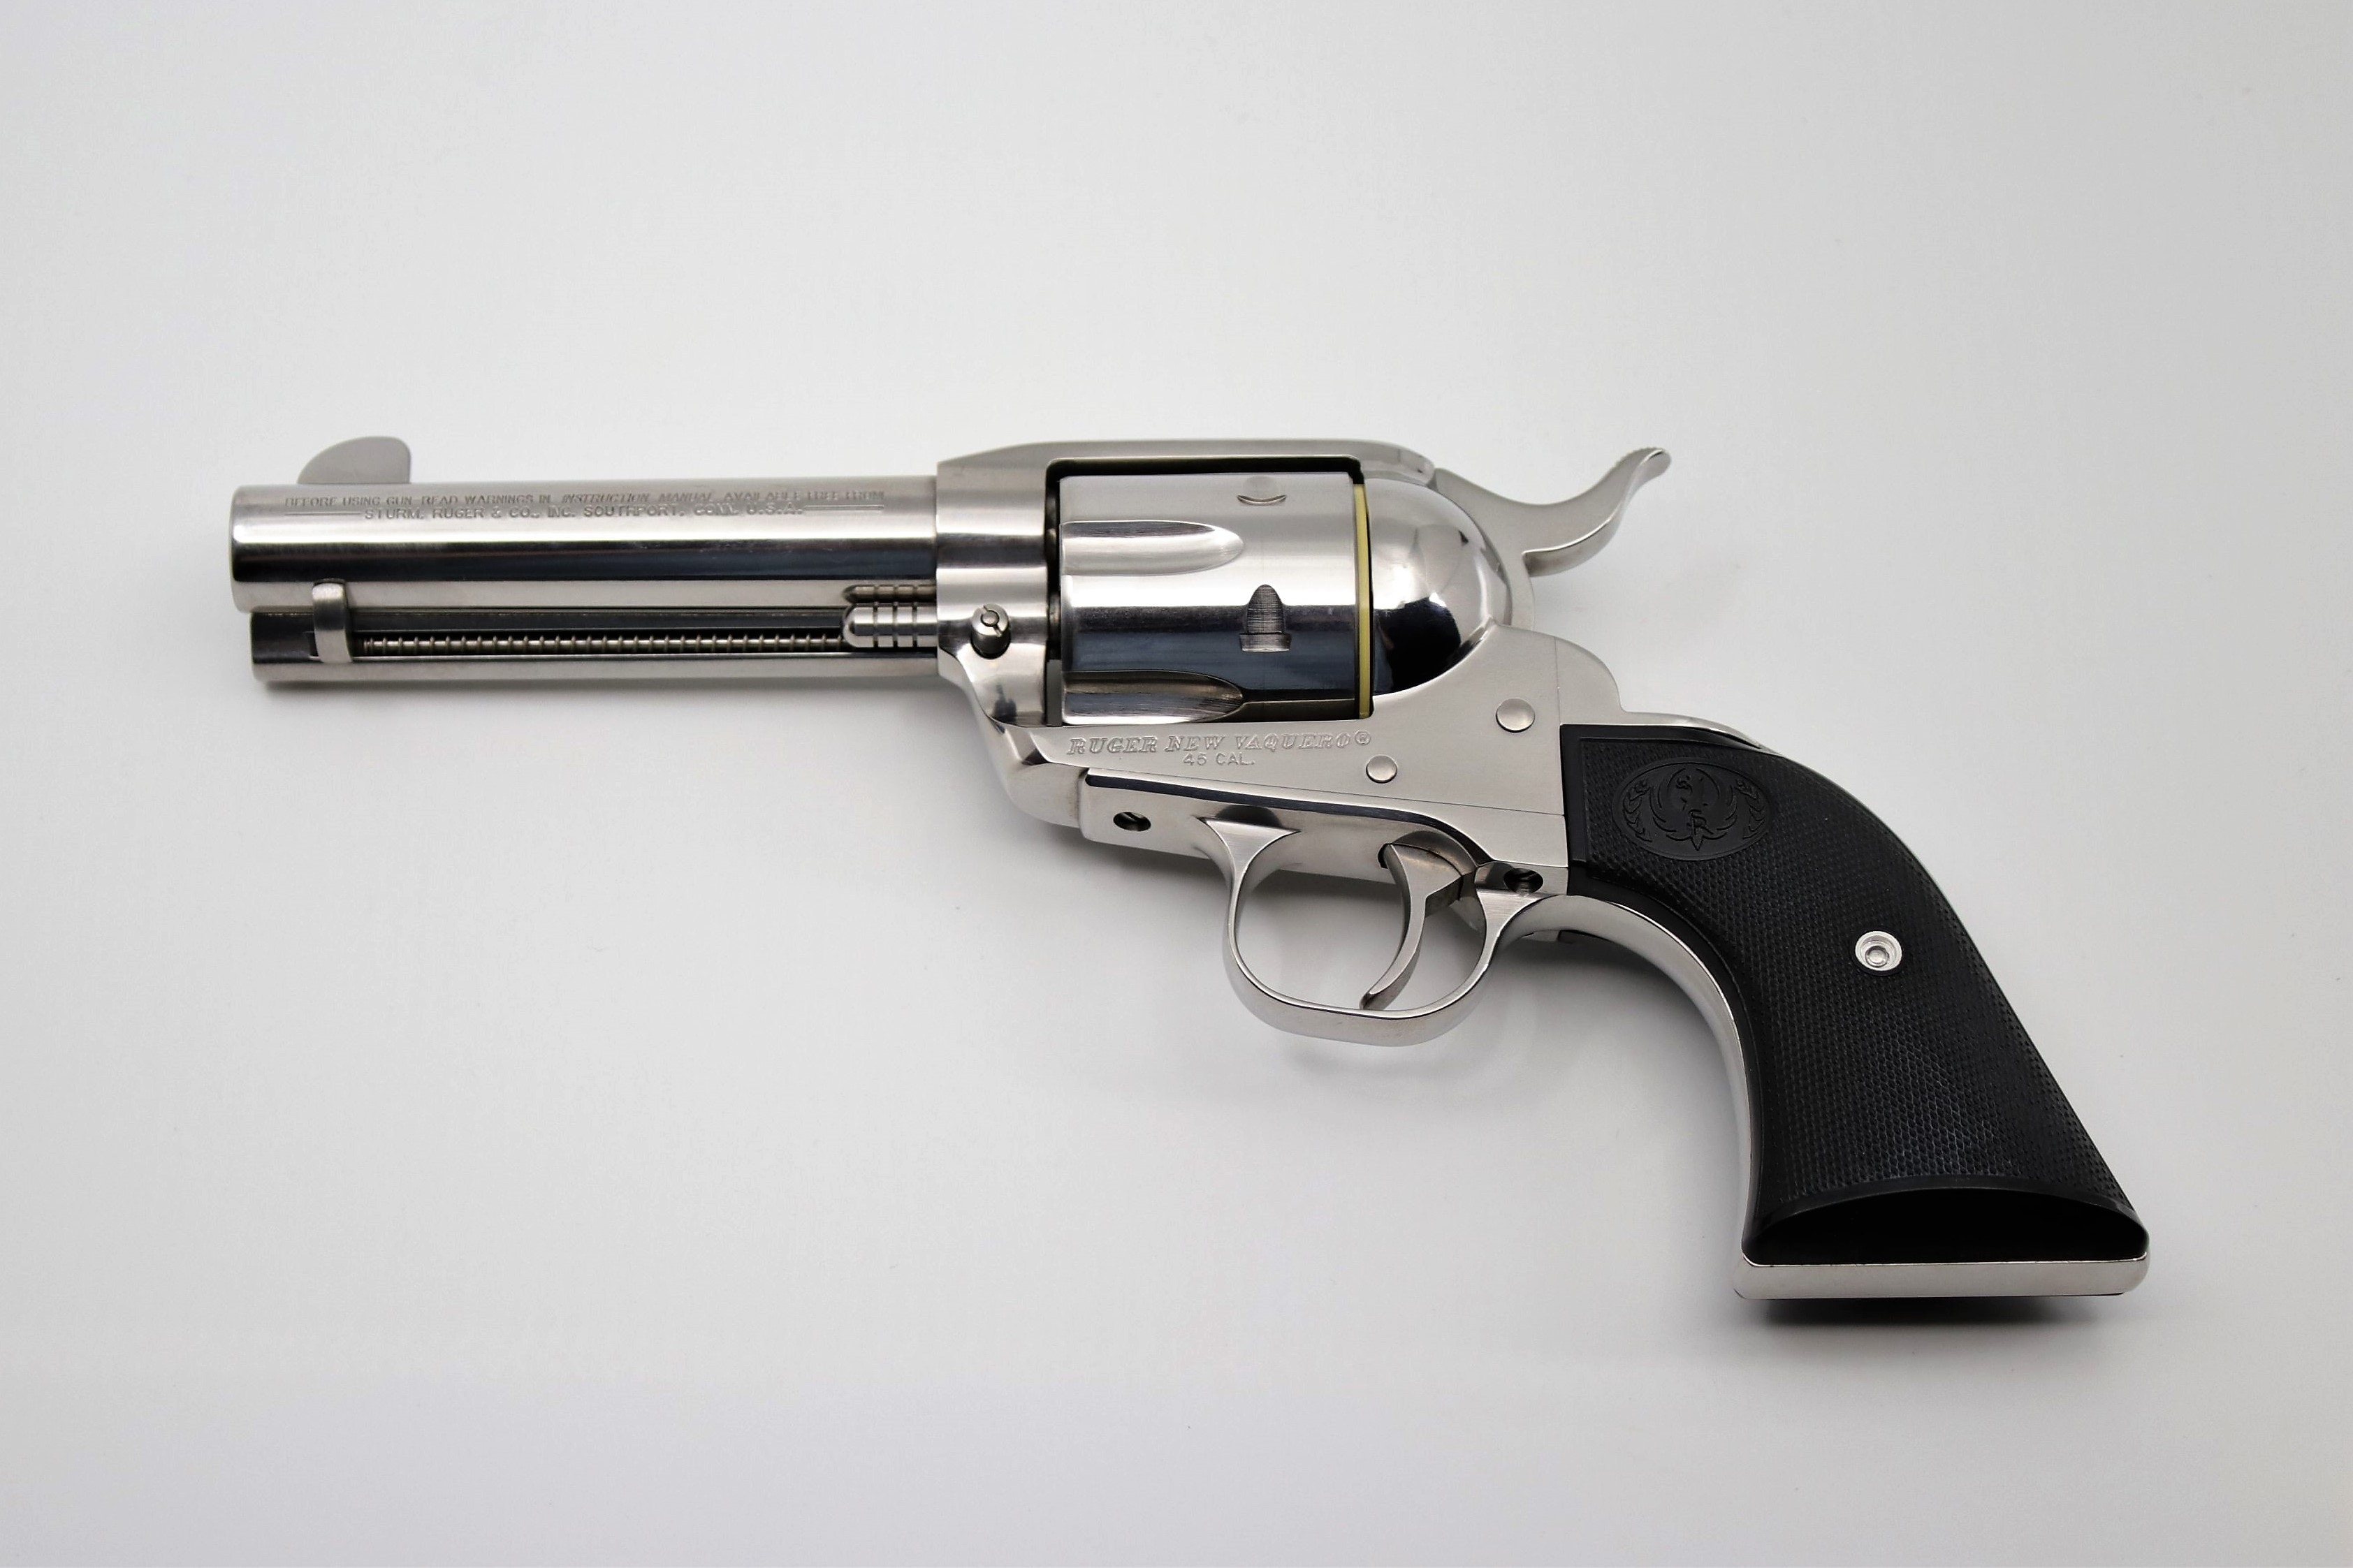gun: (198, 415, 2209, 1353)
